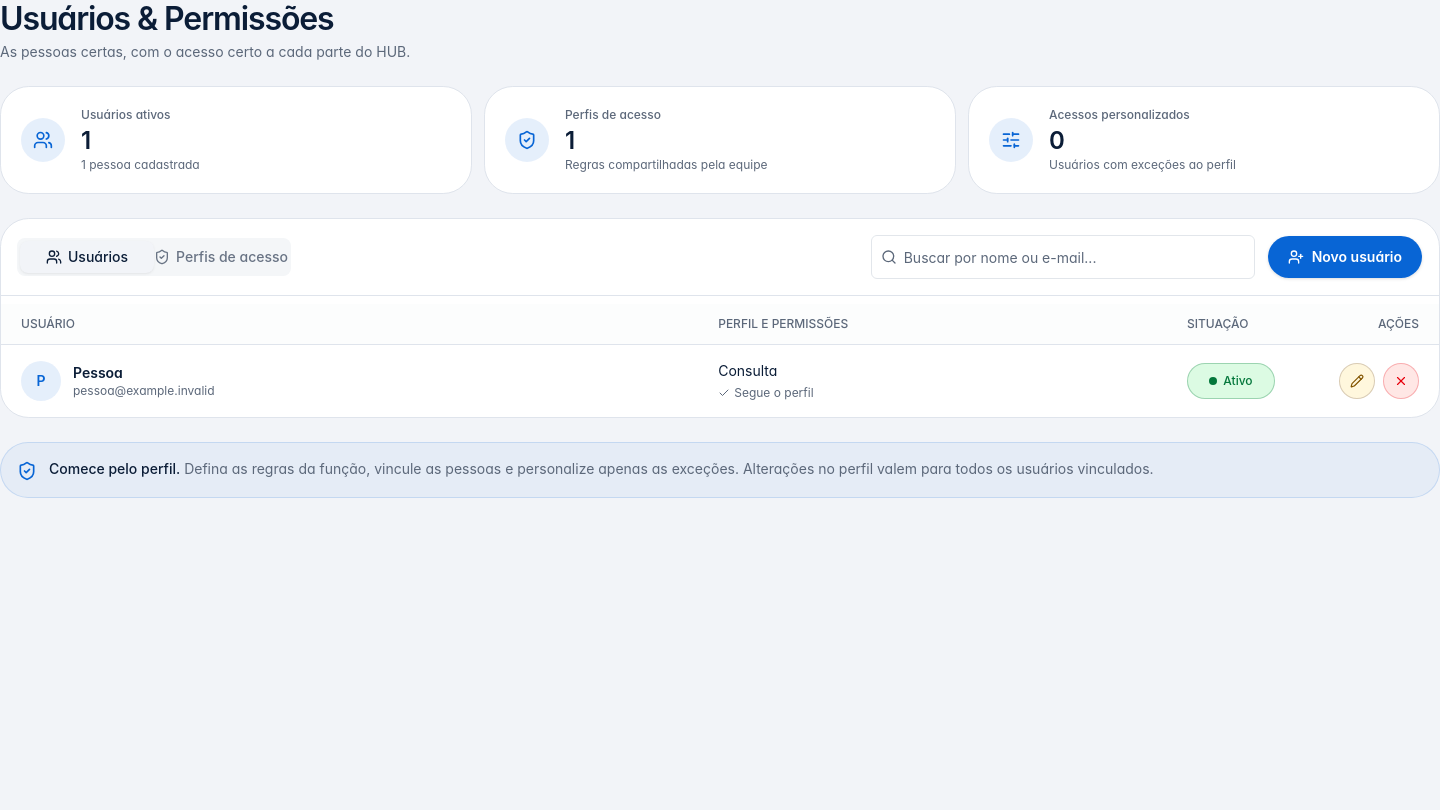
Test: clicar Salvar usuário também envia o cadastro
Click the button named "Gerenciar Pessoa". click: (1357, 381)
box: [1339,363,1375,399]
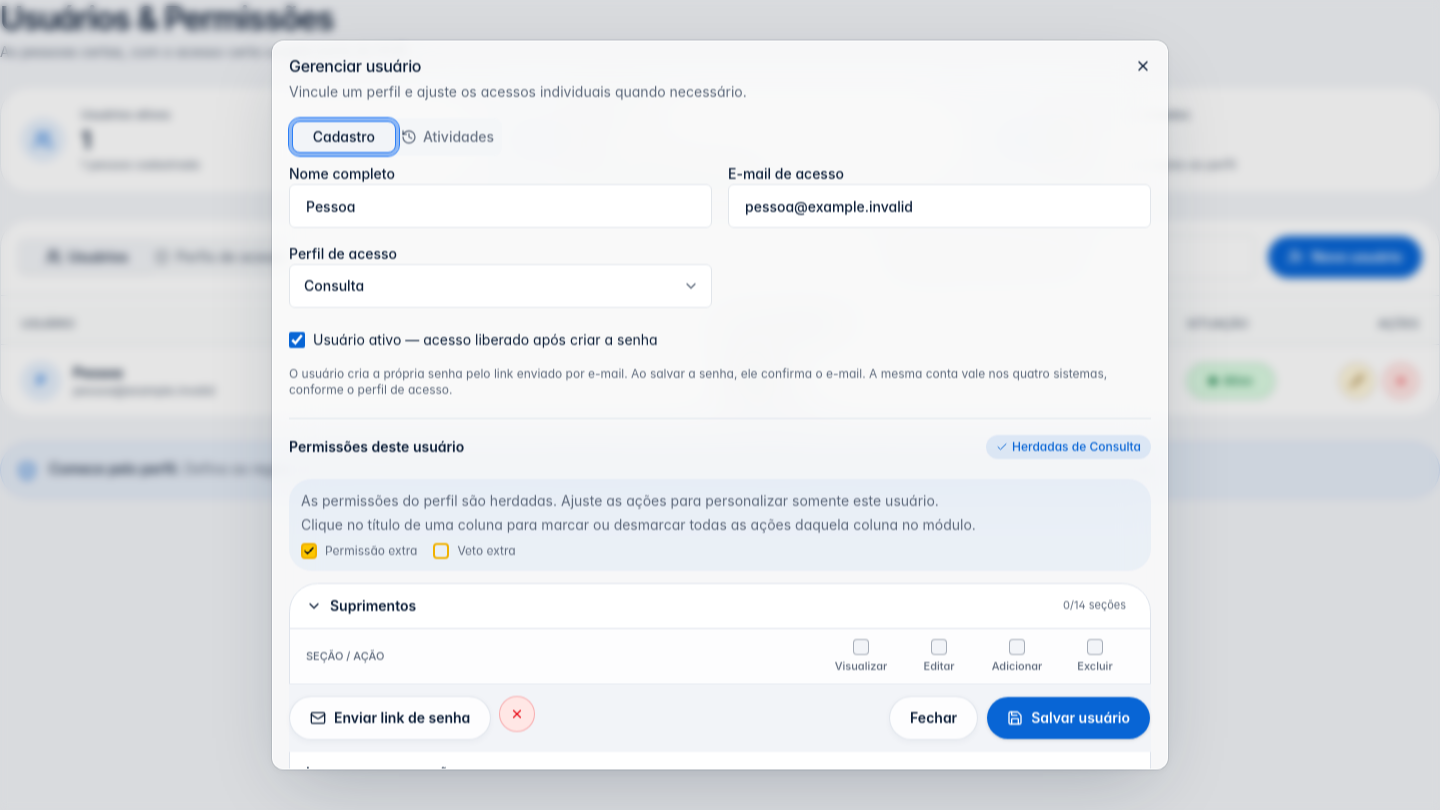
Click the button "Salvar usuário". click: (1069, 718)
box: [986,696,1151,740]
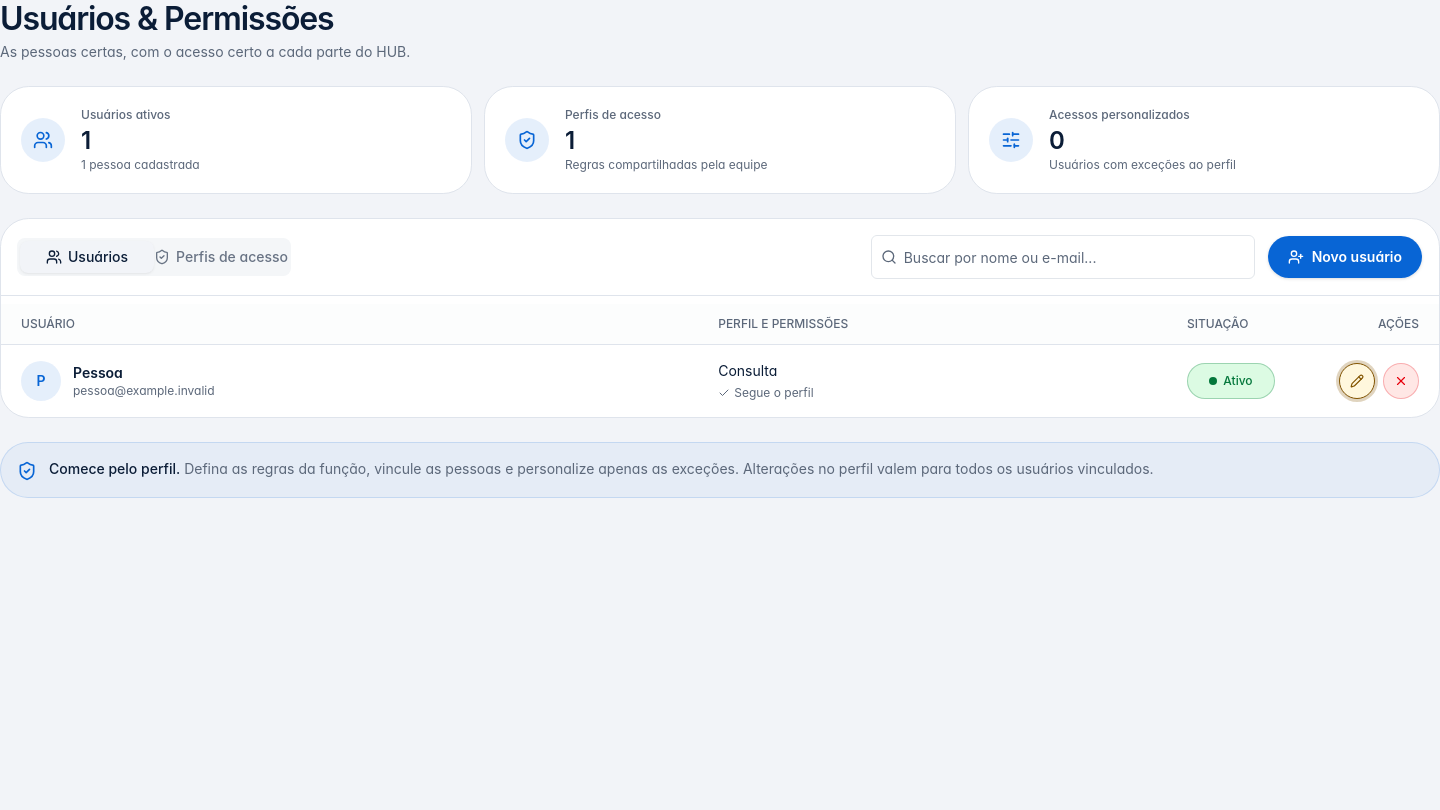
Result: the dialog is gone
